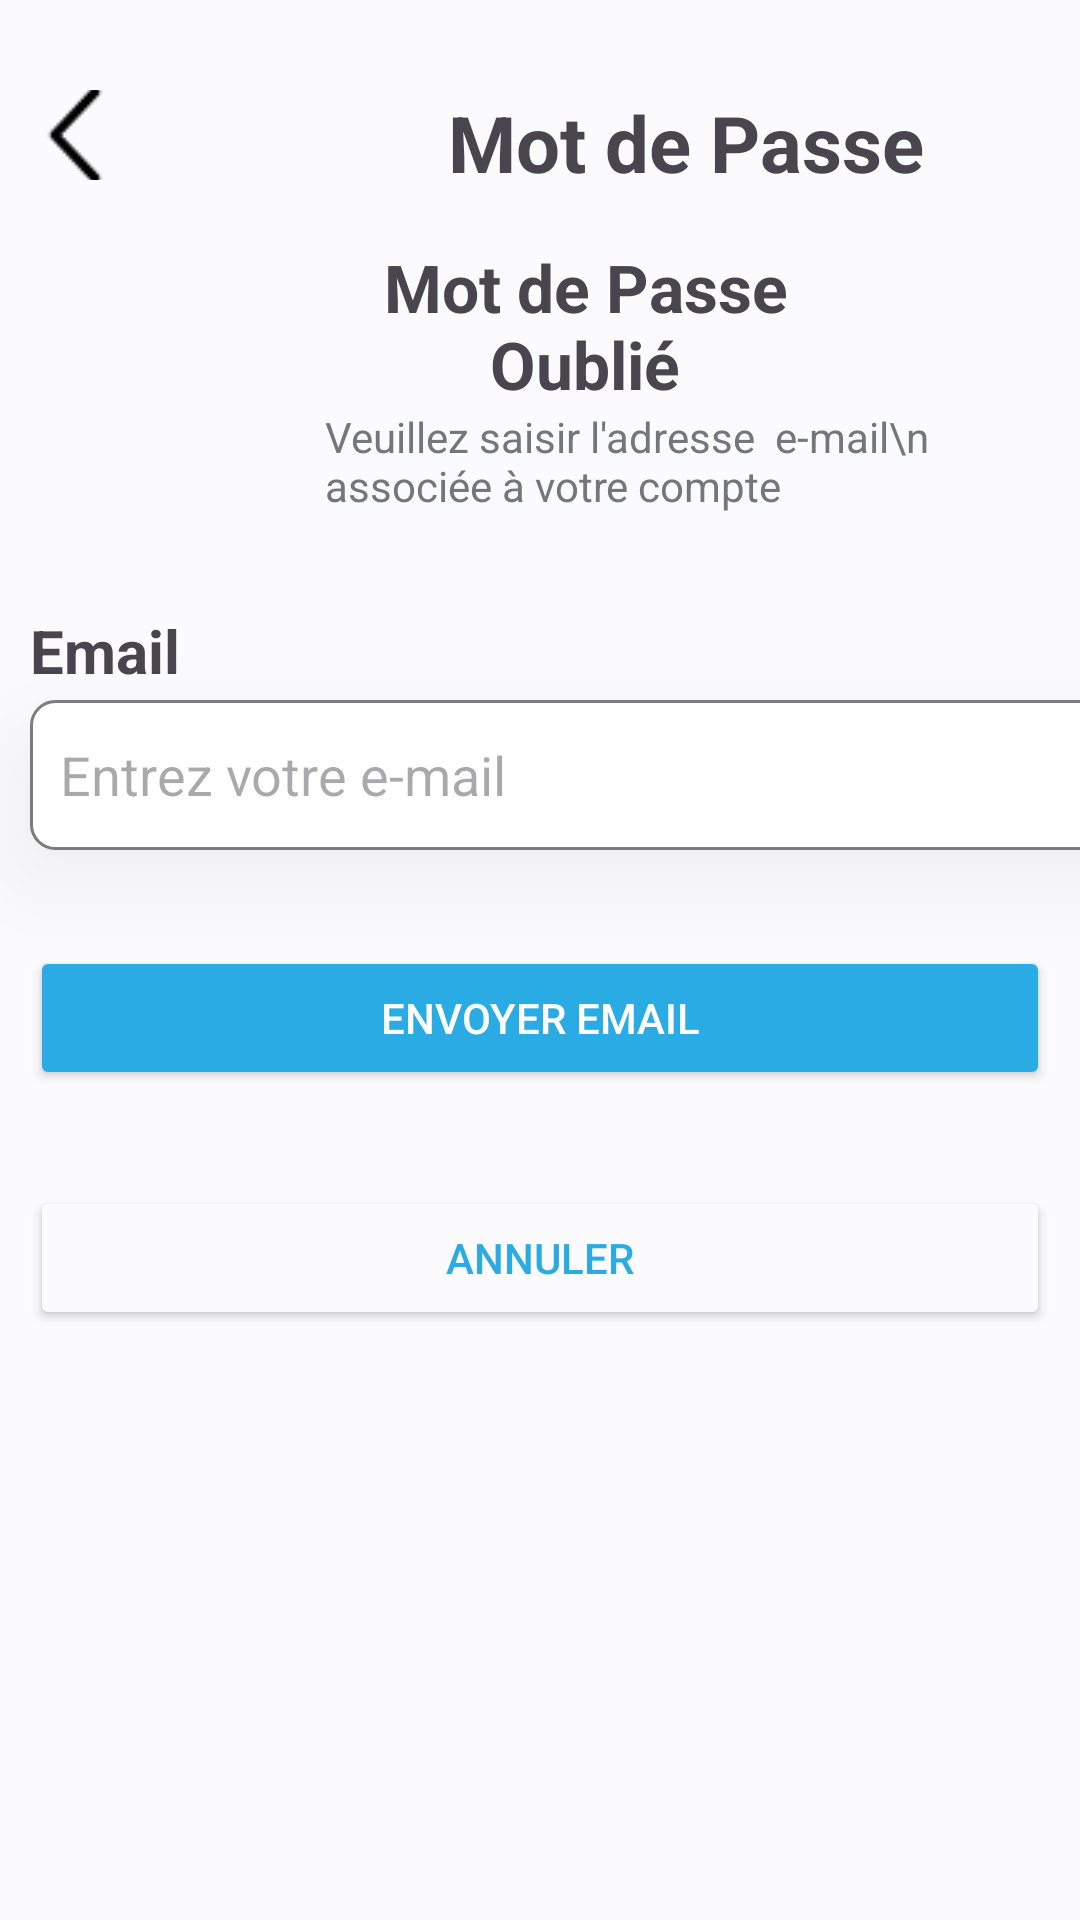

Icons on this 1080 × 1920 Android screen, each with the point to tap as point (x, y):
retour: point (75, 135)
